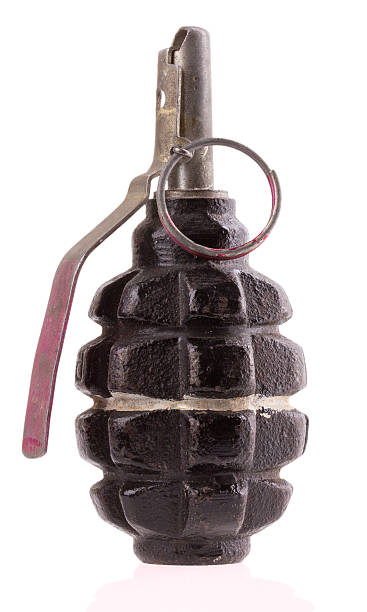e1: (31, 24, 310, 571)
